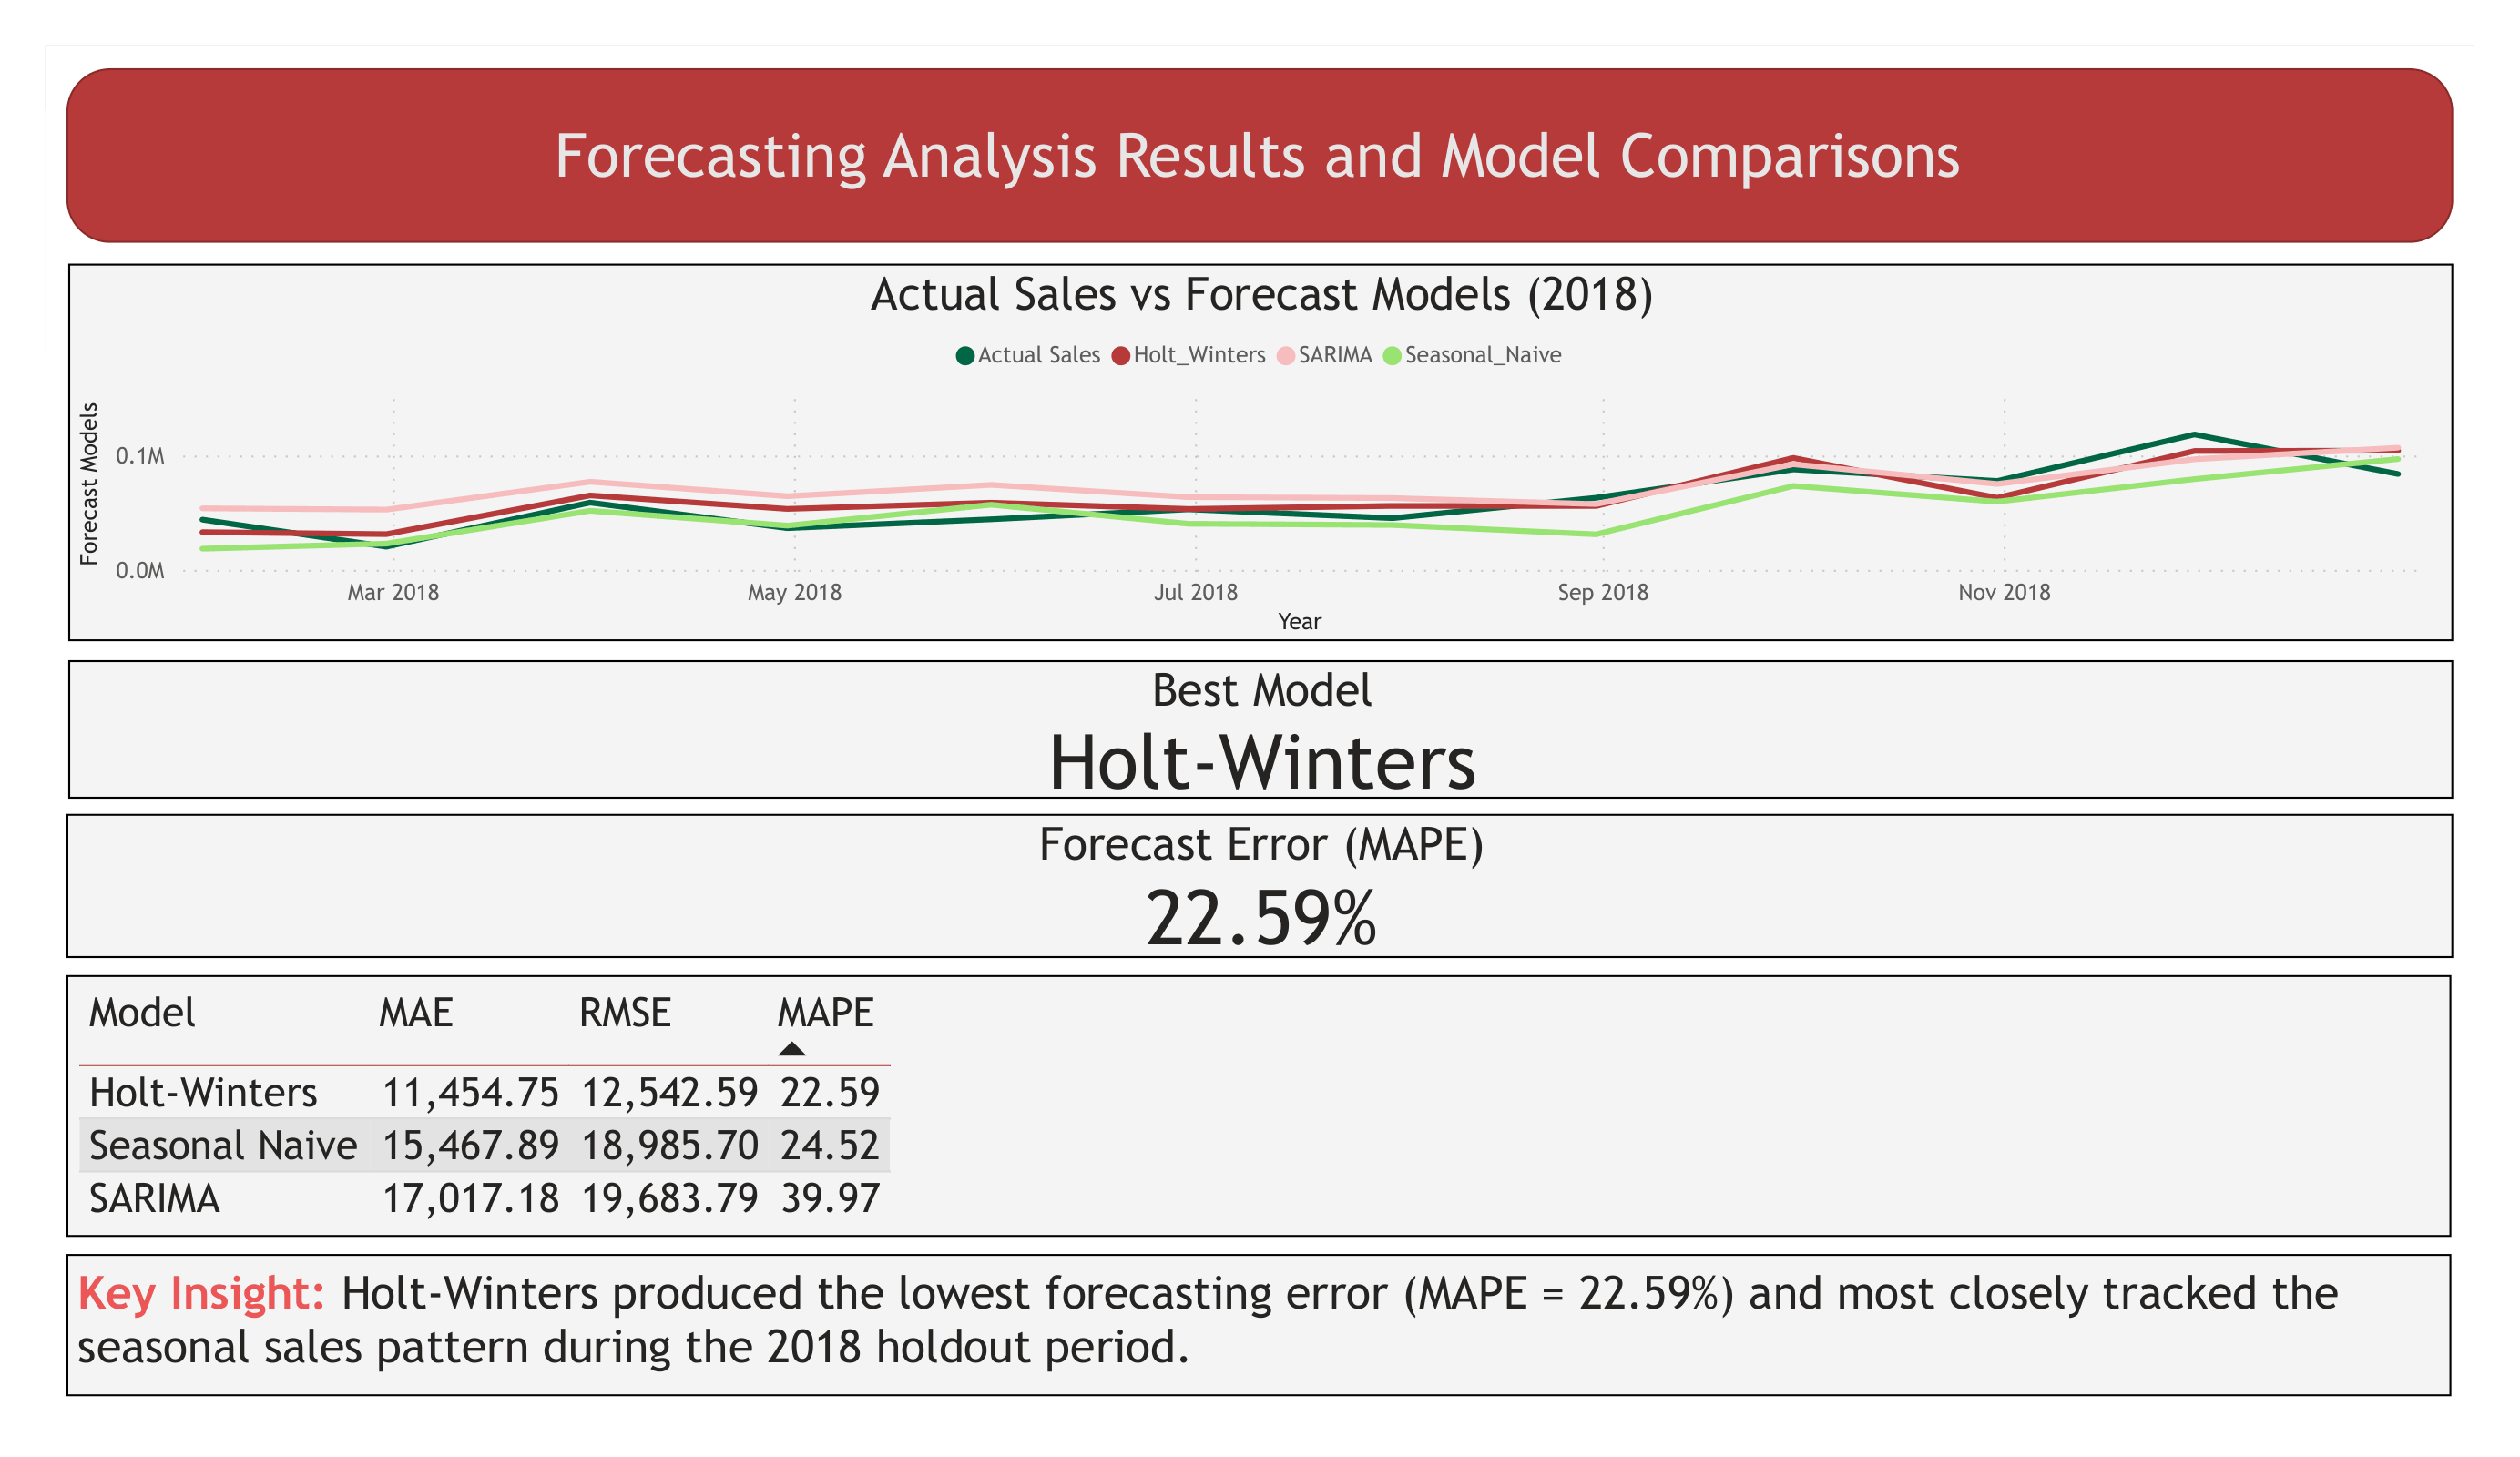

What the dashboard file says about the page in this screenshot:
{"tool":"powerbi","page":{"name":"Forecasting Analysis","canvas":[1280,720],"ordinal":2},"visuals":[{"type":"lineChart","title":"Actual Sales vs Forecast Models (2018)","fields":{"Y":["Sum(forecast_comparison.Actual)","Sum(forecast_comparison.Holt_Winters)","Sum(forecast_comparison.SARIMA)","Sum(forecast_comparison.Seasonal_Naive)"],"Category":["forecast_comparison.Date.Variation.Date Hierarchy.Year","forecast_comparison.Date.Variation.Date Hierarchy.Quarter","forecast_comparison.Date.Variation.Date Hierarchy.Month","forecast_comparison.Date.Variation.Date Hierarchy.Day"]},"box":[12.1,114.6,1256.7,199],"z":0},{"type":"tableEx","fields":{"Values":["model_metrics.Model","Sum(model_metrics.MAE)","Sum(model_metrics.RMSE)","Sum(model_metrics.MAPE)"]},"box":[10.9,489.6,1256.7,138.7],"z":1000},{"type":"card","title":"Best Model","fields":{"Values":["forecast_comparison.Best Model"]},"box":[12.1,324.4,1256.7,72.4],"z":2000},{"type":"card","title":"Forecast Error (MAPE)","fields":{"Values":["forecast_comparison.Best MAPE"]},"box":[10.9,405.2,1257.9,76],"z":3000},{"type":"textbox","box":[10.9,636.8,1256.7,74.8],"z":4000},{"type":"shape","box":[10.9,12.1,1257.9,91.7],"z":5000},{"type":"textbox","box":[26.5,33.8,1224.1,48.2],"z":6000}]}

Visuals, with their boxes on the page's 1280x720 design canvas (x1, y1, x2, y2). These are canvas units, not pixel positions in the 2520x1457 screenshot, which may show the page scaled, cropped or inside an application window:
"Actual Sales vs Forecast Models (2018)" lineChart: pyautogui.locateOnScreen(12, 115, 1269, 314)
tableEx - model_metrics.Model x Sum(model_metrics.MAE): pyautogui.locateOnScreen(11, 490, 1268, 628)
"Best Model" card: pyautogui.locateOnScreen(12, 324, 1269, 397)
"Forecast Error (MAPE)" card: pyautogui.locateOnScreen(11, 405, 1269, 481)
textbox: pyautogui.locateOnScreen(11, 637, 1268, 712)
shape: pyautogui.locateOnScreen(11, 12, 1269, 104)
textbox: pyautogui.locateOnScreen(26, 34, 1251, 82)
